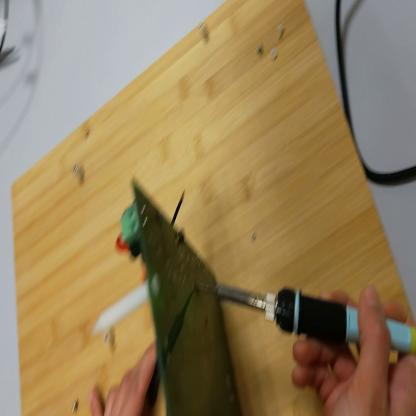hand: (292, 287, 416, 415), (88, 349, 160, 413)
low voltage board: (89, 178, 239, 415)
oscilloscope probe tip: (2, 44, 17, 64)
pliers: (146, 360, 162, 412)
welder probe tip: (192, 290, 416, 360)
working area: (12, 1, 416, 416)
